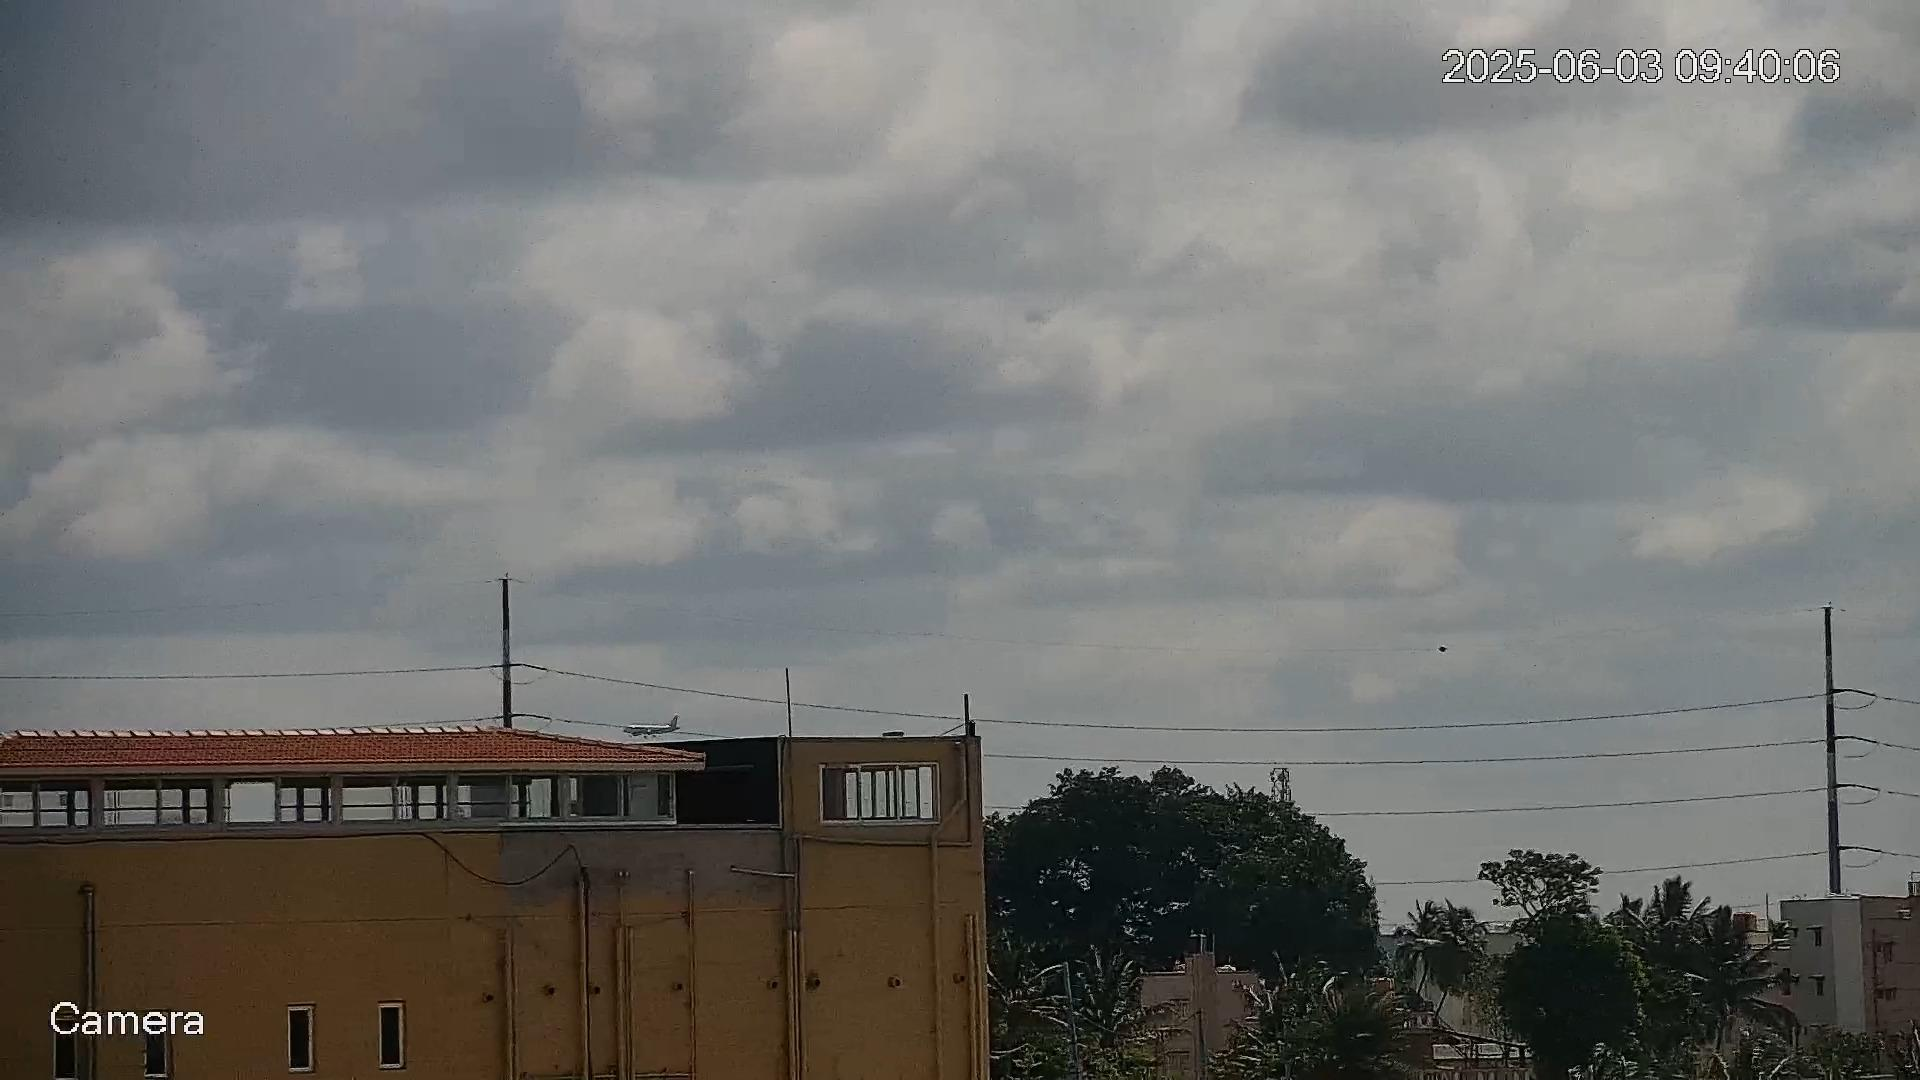Aircraft: (622, 713, 680, 740)
